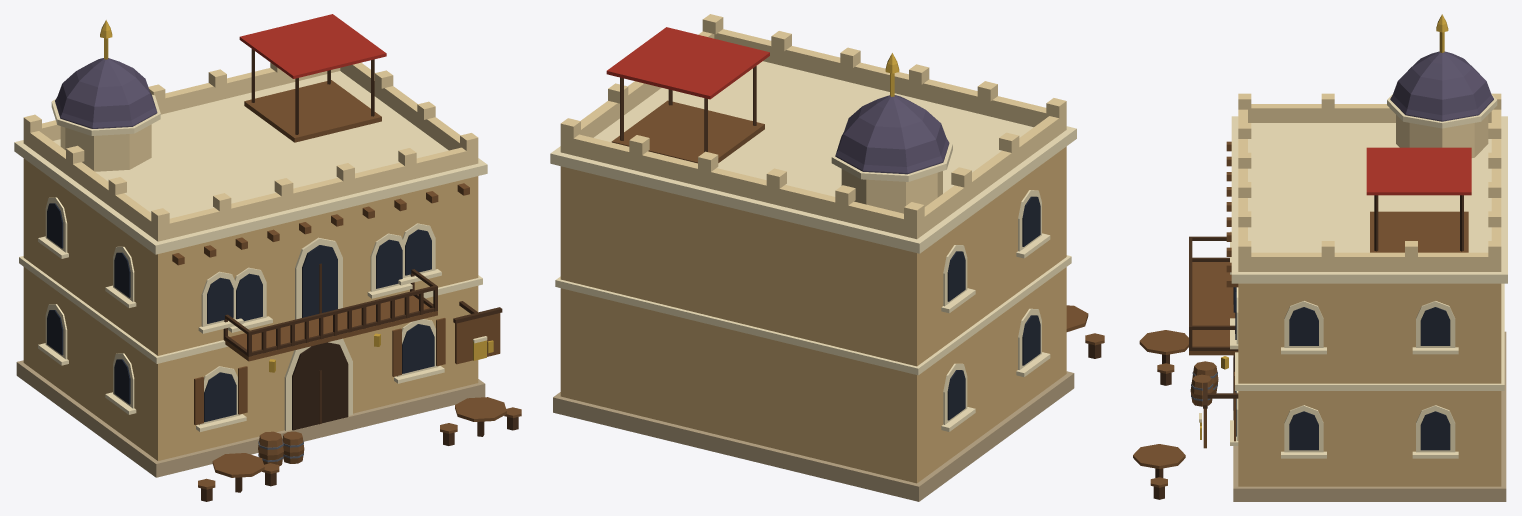
The model's file is tavern.fbx.
3 renders of one model, left to right at view 1: azimuth 30°, elevation 25°; view 2: azimuth 150°, elevation 25°; view 3: azimuth 270°, elevation 25°, orthographic. The views are drawn at different scales.
Visible parts, largest first — view 1: tavern; view 2: tavern; view 3: tavern.
Boxes of the visible parts, x1,y1,x2,y2 form: tavern: [14, 14, 521, 501]; tavern: [550, 14, 1104, 501]; tavern: [1133, 14, 1507, 501].
Bounding box in the file's own units: 11.5 × 12.01 × 11.4.
1 material, 1 textured.
